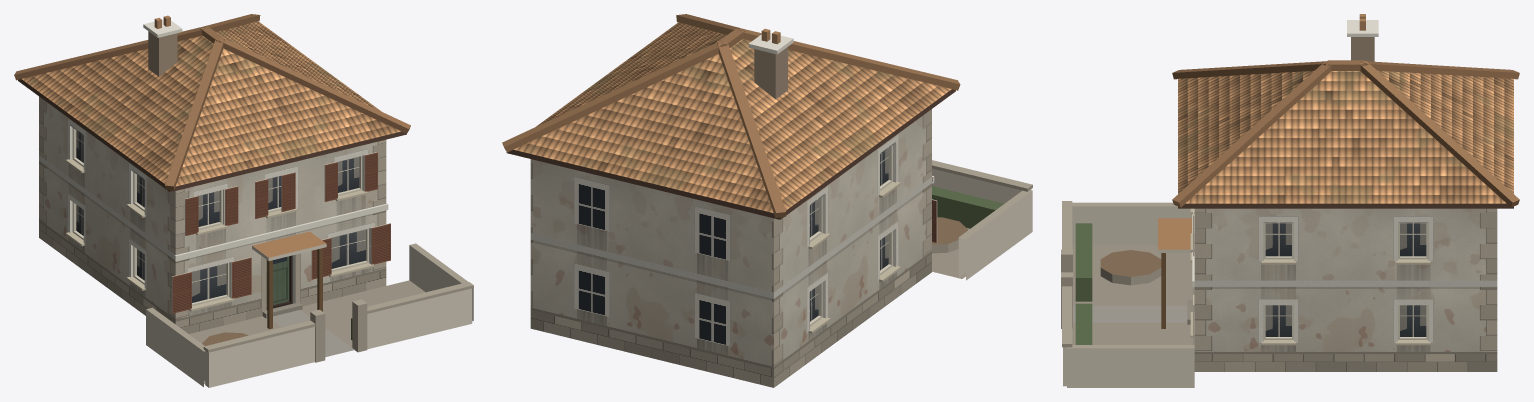
The model's file is hero_house_c.glb.
3 views of the same model, side by side, from view 1: azimuth 30°, elevation 25°; view 2: azimuth 150°, elevation 25°; view 3: azimuth 270°, elevation 25° (orthographic). The views are drawn at different scales.
Parts seen in each view (by area): view 1: bld_hero_house_c; view 2: bld_hero_house_c; view 3: bld_hero_house_c.
Boxes of the visible parts, x1,y1,x2,y2 form: bld_hero_house_c: (14,14,473,387); bld_hero_house_c: (502,14,1032,387); bld_hero_house_c: (1061,14,1519,387).
Bounding box in the file's own units: 10.25 × 9.02 × 13.65.
1 material, 1 textured.
